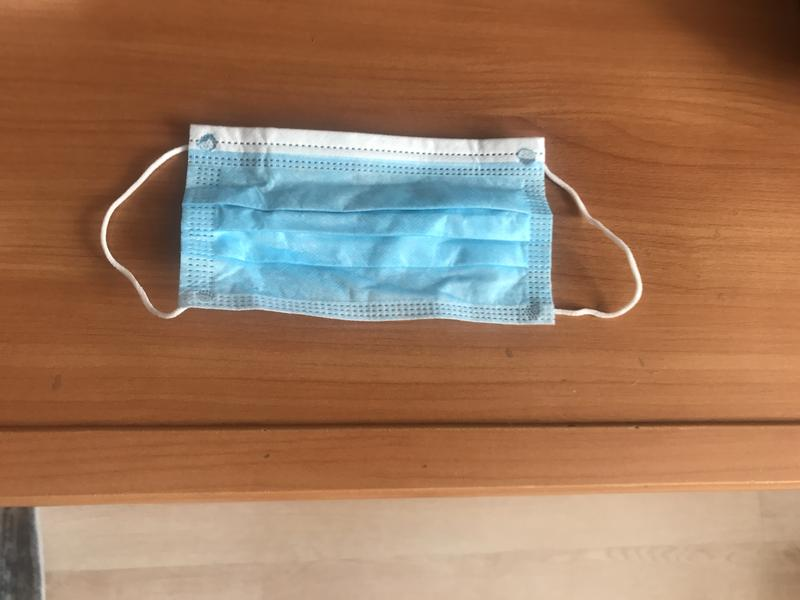medical_mask: (101, 122, 643, 324)
